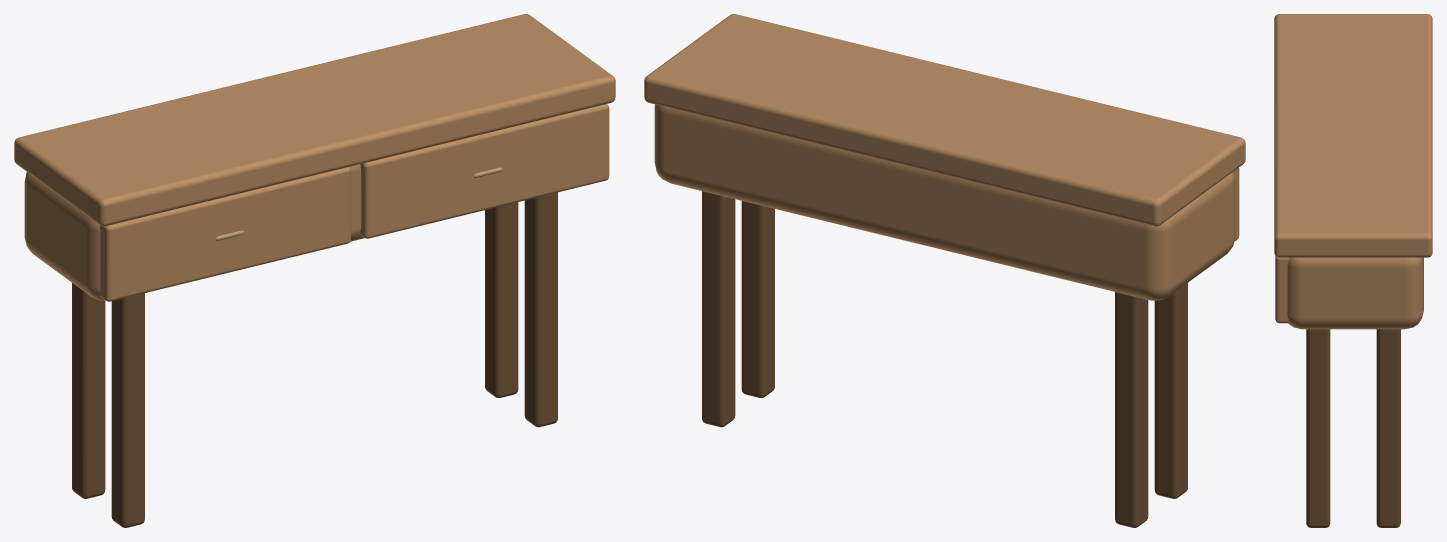
Rendered from reed-console.glb.
3 views of the same model, side by side, from view 1: azimuth 30°, elevation 25°; view 2: azimuth 150°, elevation 25°; view 3: azimuth 270°, elevation 25° (orthographic). The views are drawn at different scales.
Visible parts, largest first — view 1: Top, Drawer (×2), Leg (×4), Cabinet; view 2: Top, Cabinet, Leg (×4); view 3: Top, Leg (×2), Cabinet, Drawer.
Boxes of the visible parts, left/top/right/bottom form: Top: left=14, top=14, right=615, bottom=226; Drawer (×2): left=99, top=104, right=609, bottom=301; Leg (×4): left=72, top=192, right=557, bottom=527; Cabinet: left=24, top=164, right=364, bottom=300; Top: left=644, top=14, right=1245, bottom=226; Cabinet: left=654, top=104, right=1235, bottom=300; Leg (×4): left=702, top=191, right=1187, bottom=527; Top: left=1274, top=14, right=1432, bottom=257; Leg (×2): left=1306, top=329, right=1400, bottom=527; Cabinet: left=1287, top=257, right=1423, bottom=329; Drawer: left=1275, top=256, right=1289, bottom=323.
Size of the model in its own units: 1.2 by 0.78 by 0.36.
